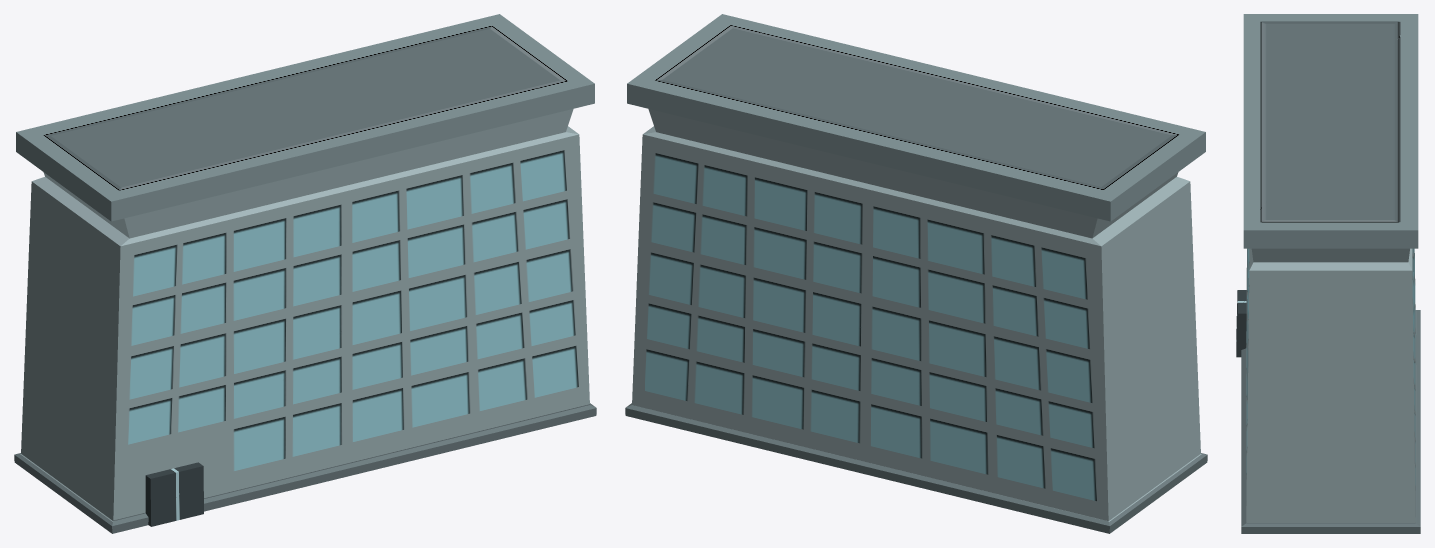
The model's file is Building2.fbx.
The picture shows the model from 3 angles, left to right: view 1: azimuth 30°, elevation 25°; view 2: azimuth 150°, elevation 25°; view 3: azimuth 270°, elevation 25°; orthographic projection. The views are drawn at different scales.
Parts seen in each view (by area): view 1: Building2; view 2: Building2; view 3: Building2.
Boxes of the visible parts, box(x1,y1,x2,y2) form: Building2: box(14, 14, 596, 533); Building2: box(625, 14, 1207, 533); Building2: box(1236, 14, 1420, 533).
Size of the model in its own units: 615 by 402 by 221.
